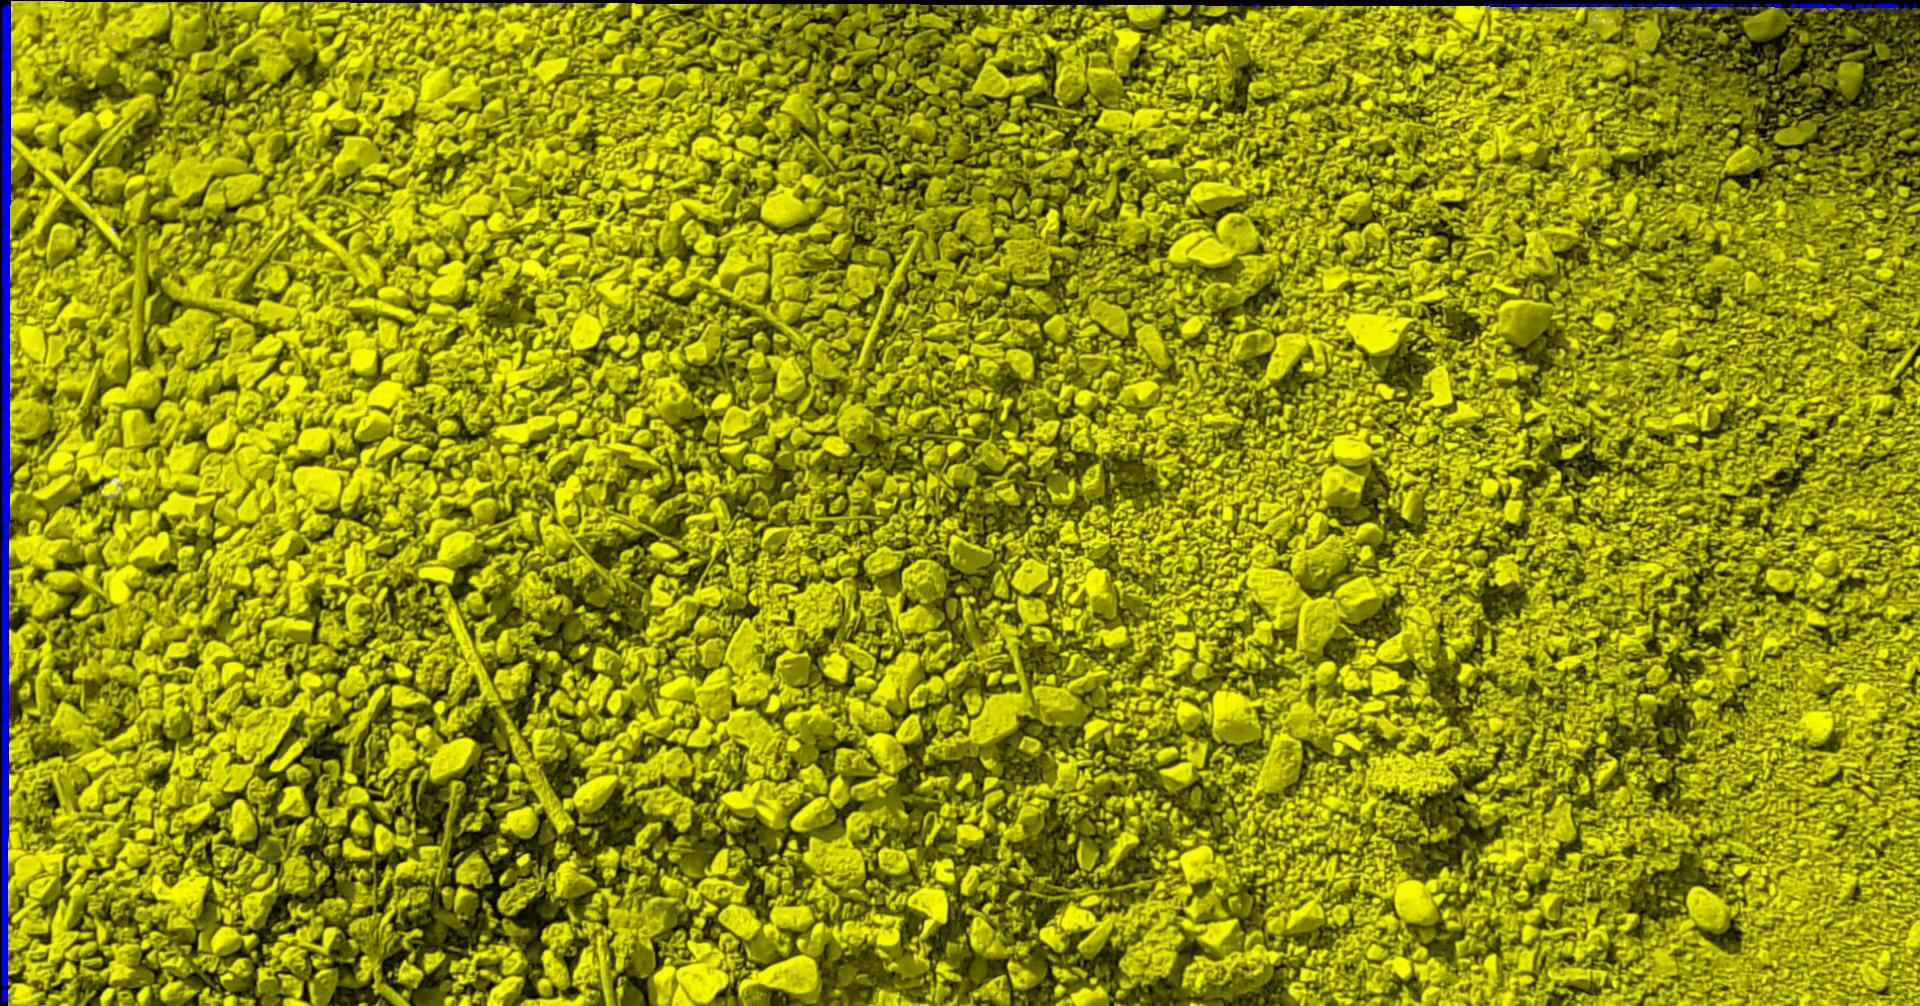ant: (1787, 3, 1919, 13)
